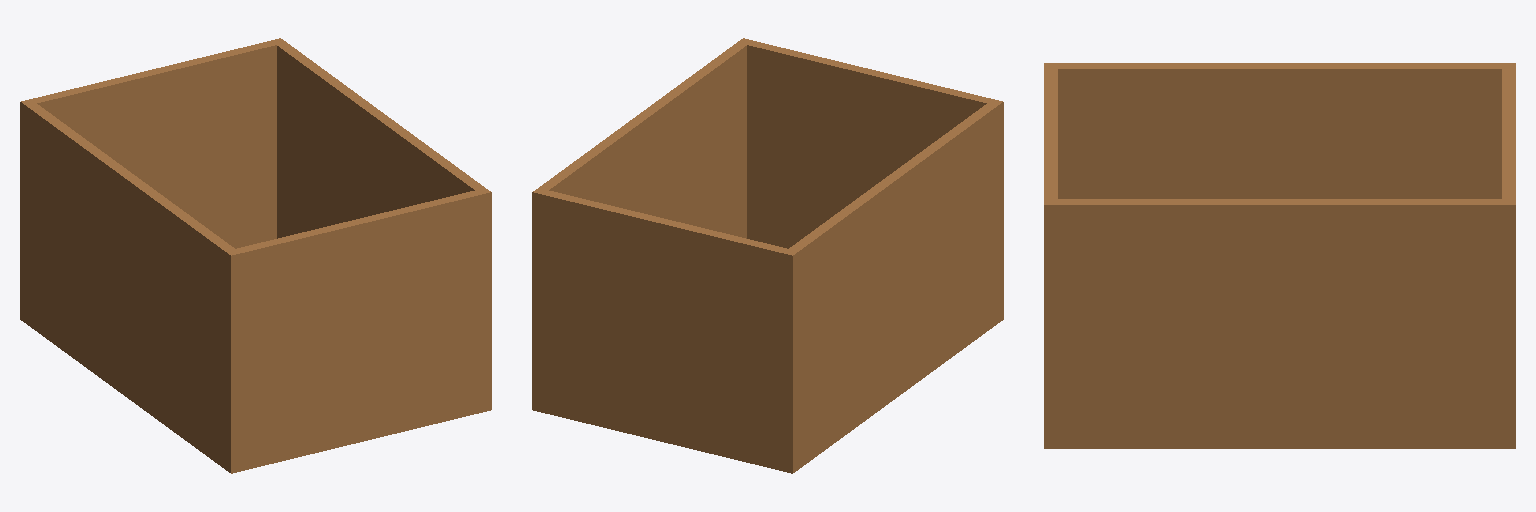
The robot description file, URDF, robot "wooden_box":
<?xml version="1.0"?>
<robot name="wooden_box">
  <!-- Outer dimensions: width=0.25 m, depth=0.35 m, height=0.20 m -->

  <material name="WoodLight">
    <color rgba="0.72 0.53 0.34 1.0"/>
  </material>

  <link name="base_link">
    <inertial>
      <origin xyz="0 0 0" rpy="0 0 0"/>
      <mass value="0.1"/>
      <inertia ixx="1e-4" ixy="0" ixz="0" iyy="1e-4" iyz="0" izz="1e-4"/>
    </inertial>
  </link>

  <!-- Bottom panel -->
  <link name="bottom_panel">
    <inertial>
      <origin xyz="0 0 0" rpy="0 0 0"/>
      <mass value="0.4"/>
      <inertia ixx="5e-4" ixy="0" ixz="0" iyy="5e-4" iyz="0" izz="5e-4"/>
    </inertial>
    <visual>
      <origin xyz="0 0 0" rpy="0 0 0"/>
      <geometry><box size="0.25 0.35 0.01"/></geometry>
      <material name="WoodLight"/>
    </visual>
    <collision>
      <origin xyz="0 0 0" rpy="0 0 0"/>
      <geometry><box size="0.25 0.35 0.01"/></geometry>
    </collision>
  </link>
  <joint name="bottom_panel_joint" type="fixed">
    <parent link="base_link"/>
    <child link="bottom_panel"/>
    <origin xyz="0 0 0.005" rpy="0 0 0"/>
  </joint>

  <!-- Left side panel -->
  <link name="left_panel">
    <inertial>
      <origin xyz="0 0 0" rpy="0 0 0"/>
      <mass value="0.25"/>
      <inertia ixx="3e-4" ixy="0" ixz="0" iyy="3e-4" iyz="0" izz="3e-4"/>
    </inertial>
    <visual>
      <origin xyz="0 0 0" rpy="0 0 0"/>
      <geometry><box size="0.01 0.35 0.20"/></geometry>
      <material name="WoodLight"/>
    </visual>
    <collision>
      <origin xyz="0 0 0" rpy="0 0 0"/>
      <geometry><box size="0.01 0.35 0.20"/></geometry>
    </collision>
  </link>
  <joint name="left_panel_joint" type="fixed">
    <parent link="base_link"/>
    <child link="left_panel"/>
    <origin xyz="-0.12 0 0.10" rpy="0 0 0"/>
  </joint>

  <!-- Right side panel -->
  <link name="right_panel">
    <inertial>
      <origin xyz="0 0 0" rpy="0 0 0"/>
      <mass value="0.25"/>
      <inertia ixx="3e-4" ixy="0" ixz="0" iyy="3e-4" iyz="0" izz="3e-4"/>
    </inertial>
    <visual>
      <origin xyz="0 0 0" rpy="0 0 0"/>
      <geometry><box size="0.01 0.35 0.20"/></geometry>
      <material name="WoodLight"/>
    </visual>
    <collision>
      <origin xyz="0 0 0" rpy="0 0 0"/>
      <geometry><box size="0.01 0.35 0.20"/></geometry>
    </collision>
  </link>
  <joint name="right_panel_joint" type="fixed">
    <parent link="base_link"/>
    <child link="right_panel"/>
    <origin xyz="0.12 0 0.10" rpy="0 0 0"/>
  </joint>

  <!-- Front panel -->
  <link name="front_panel">
    <inertial>
      <origin xyz="0 0 0" rpy="0 0 0"/>
      <mass value="0.25"/>
      <inertia ixx="3e-4" ixy="0" ixz="0" iyy="3e-4" iyz="0" izz="3e-4"/>
    </inertial>
    <visual>
      <origin xyz="0 0 0" rpy="0 0 0"/>
      <geometry><box size="0.25 0.01 0.20"/></geometry>
      <material name="WoodLight"/>
    </visual>
    <collision>
      <origin xyz="0 0 0" rpy="0 0 0"/>
      <geometry><box size="0.25 0.01 0.20"/></geometry>
    </collision>
  </link>
  <joint name="front_panel_joint" type="fixed">
    <parent link="base_link"/>
    <child link="front_panel"/>
    <origin xyz="0 0.17 0.10" rpy="0 0 0"/>
  </joint>

  <!-- Back panel -->
  <link name="back_panel">
    <inertial>
      <origin xyz="0 0 0" rpy="0 0 0"/>
      <mass value="0.25"/>
      <inertia ixx="3e-4" ixy="0" ixz="0" iyy="3e-4" iyz="0" izz="3e-4"/>
    </inertial>
    <visual>
      <origin xyz="0 0 0" rpy="0 0 0"/>
      <geometry><box size="0.25 0.01 0.20"/></geometry>
      <material name="WoodLight"/>
    </visual>
    <collision>
      <origin xyz="0 0 0" rpy="0 0 0"/>
      <geometry><box size="0.25 0.01 0.20"/></geometry>
    </collision>
  </link>
  <joint name="back_panel_joint" type="fixed">
    <parent link="base_link"/>
    <child link="back_panel"/>
    <origin xyz="0 -0.17 0.10" rpy="0 0 0"/>
  </joint>

</robot>

--- Facts derived from the render (not from the file) ---
The picture shows the robot from 3 angles, left to right: view 1: azimuth 30°, elevation 25°; view 2: azimuth 150°, elevation 25°; view 3: azimuth 270°, elevation 25°; orthographic projection.
Model wooden_box with 6 links and 5 joints (5 fixed), rooted at base_link, posed all joints at 0.
Links seen in each view (by area): view 1: back_panel, left_panel, front_panel, right_panel, bottom_panel; view 2: front_panel, left_panel, back_panel, right_panel, bottom_panel; view 3: right_panel, left_panel, bottom_panel, front_panel, back_panel.
Link boxes in pixels (box(x1,y1,x2,y2)): back_panel: box(225, 188, 491, 473); left_panel: box(20, 99, 240, 472); front_panel: box(20, 39, 286, 319); right_panel: box(271, 38, 491, 412); bottom_panel: box(20, 313, 491, 473); front_panel: box(532, 188, 798, 471); left_panel: box(783, 99, 1003, 472); back_panel: box(737, 39, 1003, 312); right_panel: box(532, 38, 752, 411); bottom_panel: box(532, 310, 1003, 473); right_panel: box(1044, 199, 1515, 448); left_panel: box(1044, 63, 1515, 198); bottom_panel: box(1044, 437, 1515, 448); front_panel: box(1502, 63, 1515, 448); back_panel: box(1044, 69, 1057, 448).
Bounding box of the posed robot: 0.25 × 0.35 × 0.2 m (x, y, z).
Geometry: primitives only (box / cylinder / sphere), no mesh files.
